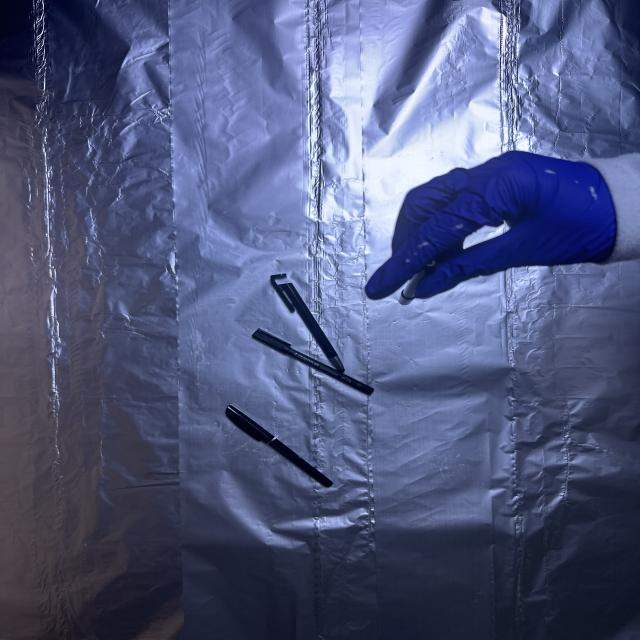gloves_contaminated: (366, 151, 618, 300)
